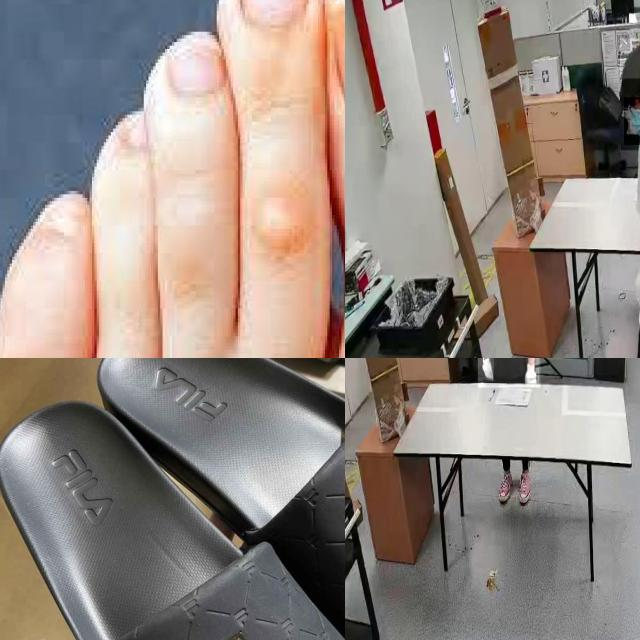Barefoots: (0, 0, 345, 358)
Sandals: (0, 358, 345, 640)
face_mask: (623, 97, 640, 145)
hand_glove: (477, 358, 494, 381), (526, 358, 539, 386)
head_nohelmet: (619, 38, 640, 79)
person: (607, 39, 640, 358)
shoes: (515, 466, 535, 504), (497, 470, 513, 506)
